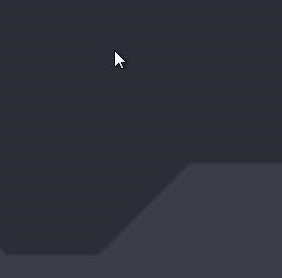cursor: (113, 49, 127, 71)
